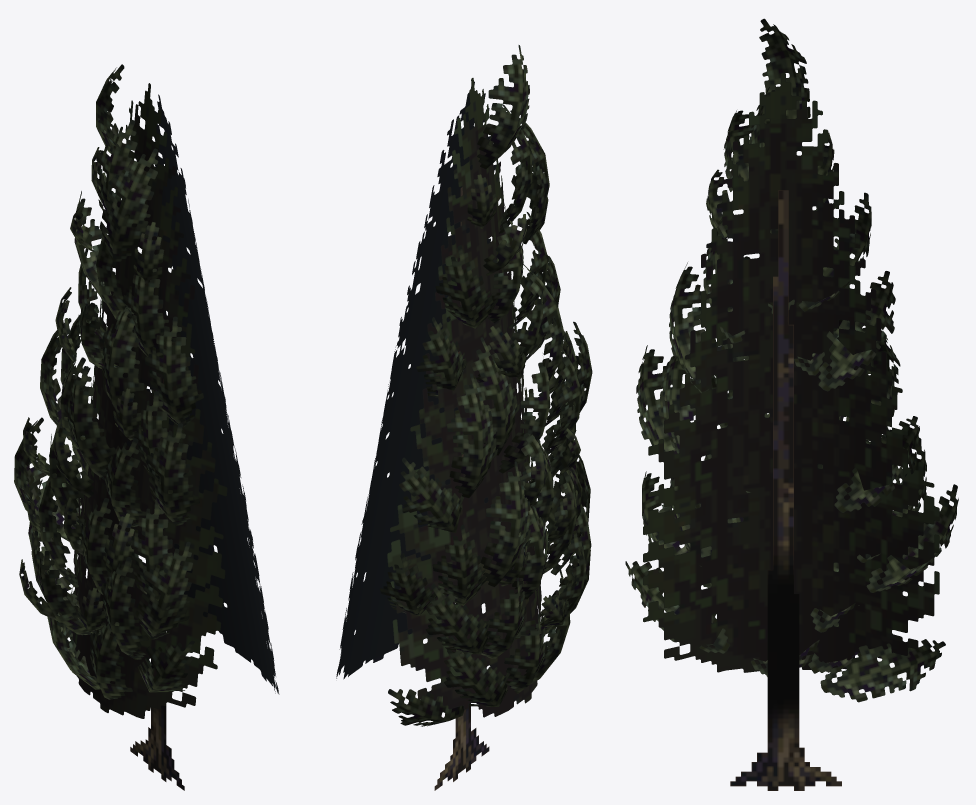
Rendered from EnvFldMD_Tree_I_L.FBX.
3 renders of one model, left to right at view 1: azimuth 30°, elevation 25°; view 2: azimuth 150°, elevation 25°; view 3: azimuth 270°, elevation 25°, orthographic. The views are drawn at different scales.
Parts seen in each view (by area): view 1: EnvFldMD_Tree_I_L; view 2: EnvFldMD_Tree_I_L; view 3: EnvFldMD_Tree_I_L.
Boxes of the visible parts, left/top/right/bottom form: EnvFldMD_Tree_I_L: left=14, top=64, right=279, bottom=790; EnvFldMD_Tree_I_L: left=336, top=45, right=592, bottom=790; EnvFldMD_Tree_I_L: left=625, top=18, right=958, bottom=790.
Bounding box in the file's own units: 245 × 785 × 321.
Materials: 2 (2 with a texture image).
